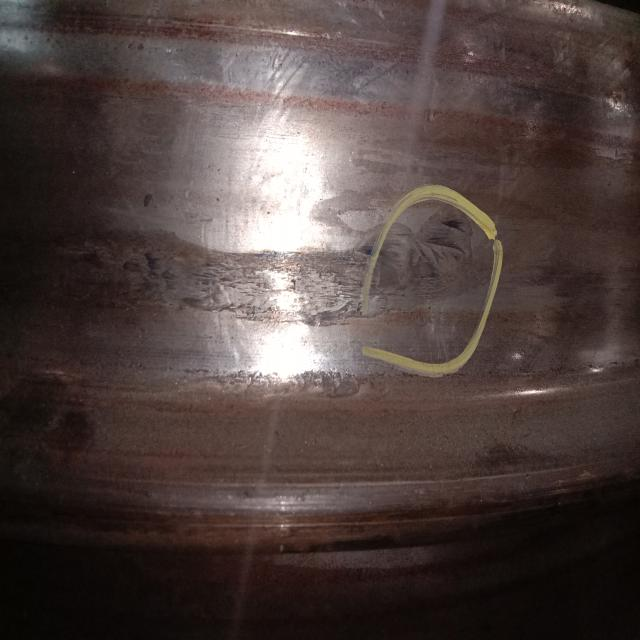flat: (94, 214, 357, 336), (404, 220, 472, 306)
